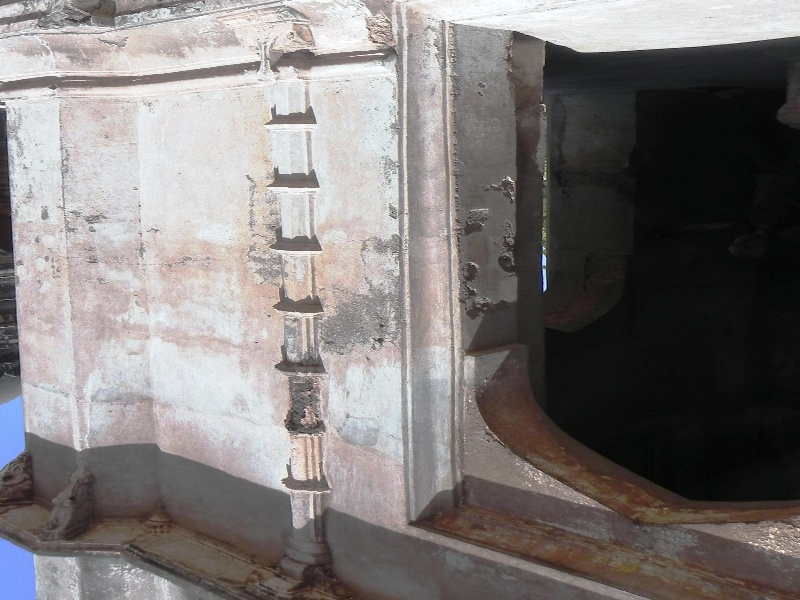Spalling: (454, 194, 520, 326), (274, 366, 332, 444)
